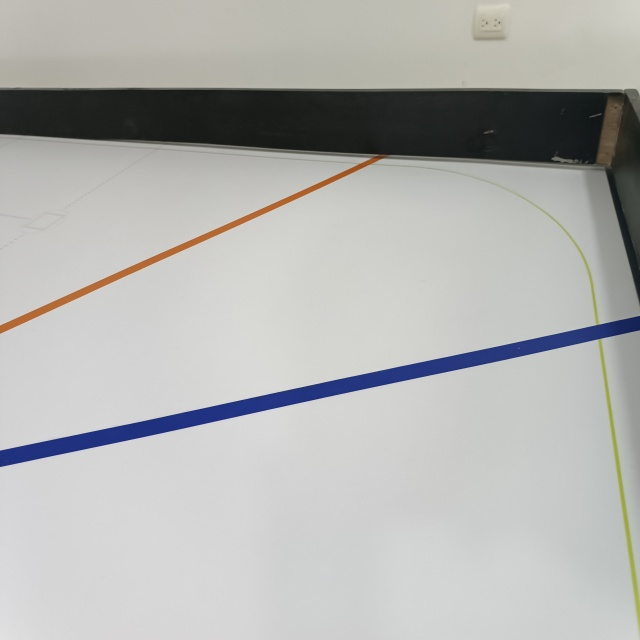blue line: (1, 308, 640, 472)
orange line: (0, 153, 390, 349)
